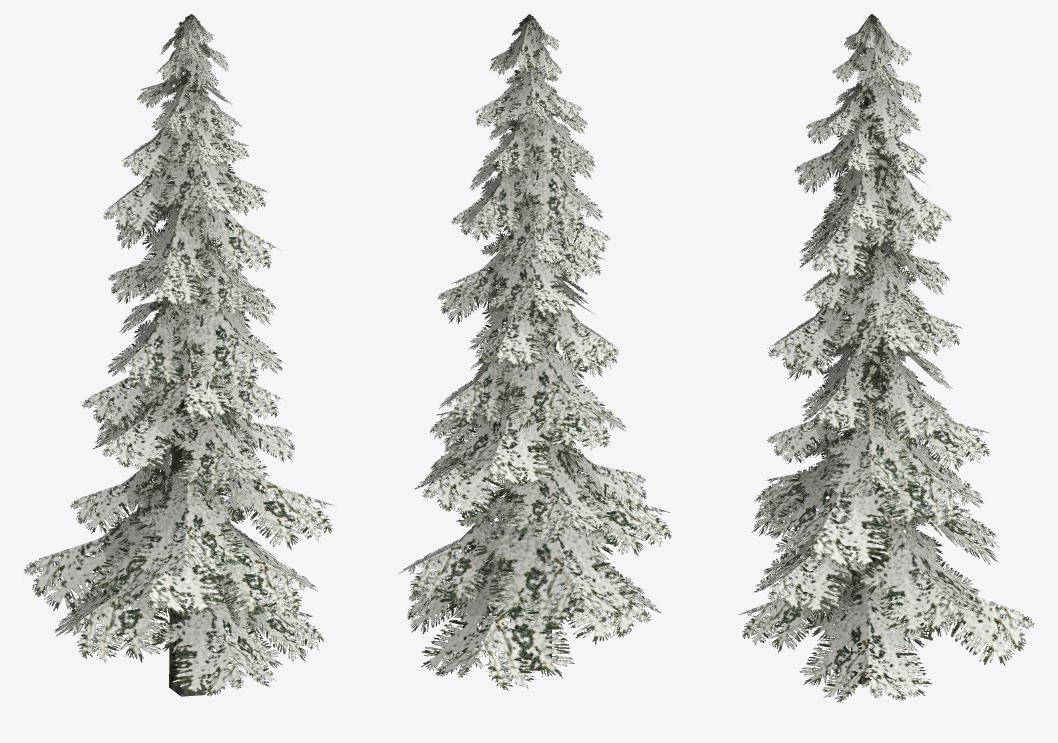
The model's file is abeto_nieve_a.glb.
3 views of the same model, side by side, from view 1: azimuth 30°, elevation 25°; view 2: azimuth 150°, elevation 25°; view 3: azimuth 270°, elevation 25° (orthographic). The views are drawn at different scales.
Parts seen in each view (by area): view 1: Modelo; view 2: Modelo; view 3: Modelo.
Boxes of the visible parts, x1=… form: Modelo: x1=24, y1=14, x2=334, y2=696; Modelo: x1=398, y1=14, x2=671, y2=691; Modelo: x1=739, y1=14, x2=1034, y2=702.
Size of the model in its own units: 3.45 by 7.41 by 3.3.
Materials: 1 (1 with a texture image).
